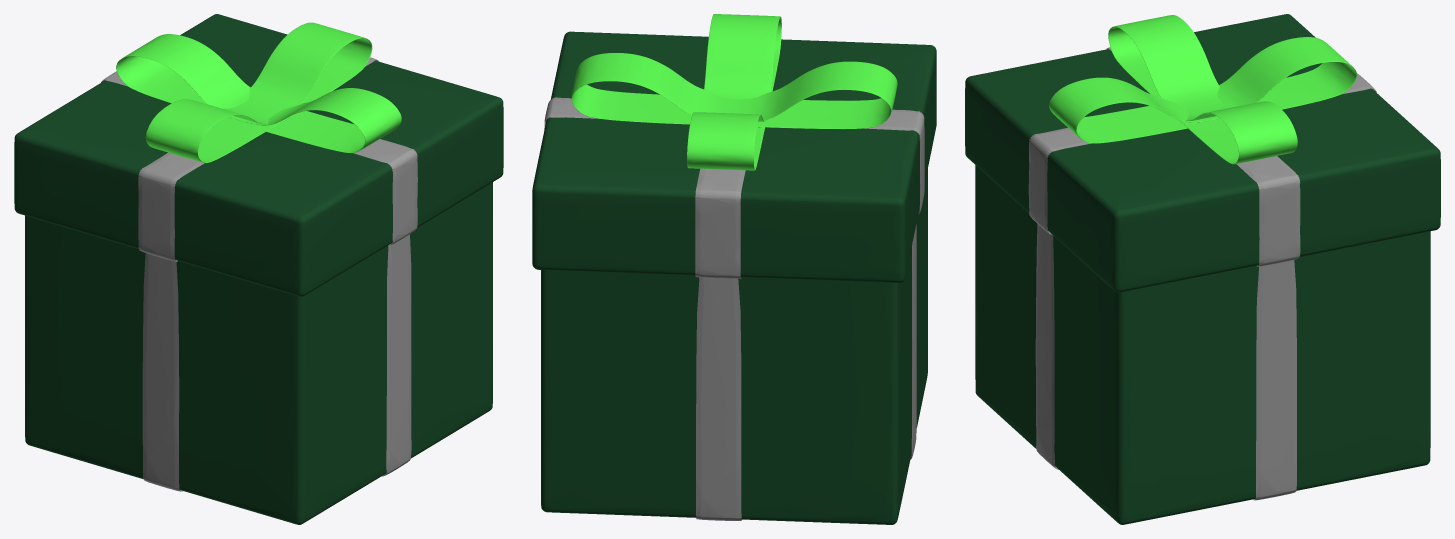
The picture shows the model from 3 angles, left to right: view 1: azimuth 30°, elevation 25°; view 2: azimuth 150°, elevation 25°; view 3: azimuth 270°, elevation 25°; orthographic projection. The views are drawn at different scales.
Visible parts, largest first — view 1: 345; view 2: 345; view 3: 345.
Boxes of the visible parts, x1,y1,x2,y2 form: 345: (14, 14, 503, 524); 345: (532, 14, 936, 524); 345: (965, 14, 1440, 524).
Bounding box in the file's own units: 21.52 × 21.52 × 18.1.
